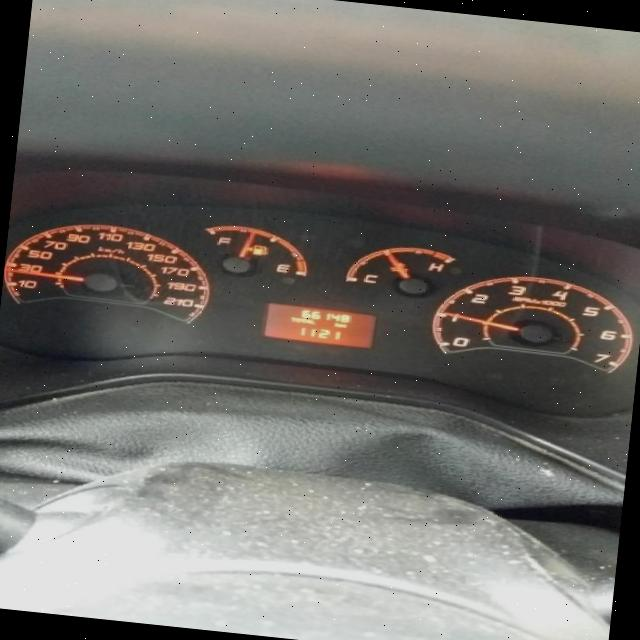odometer: (256, 298, 382, 352)
